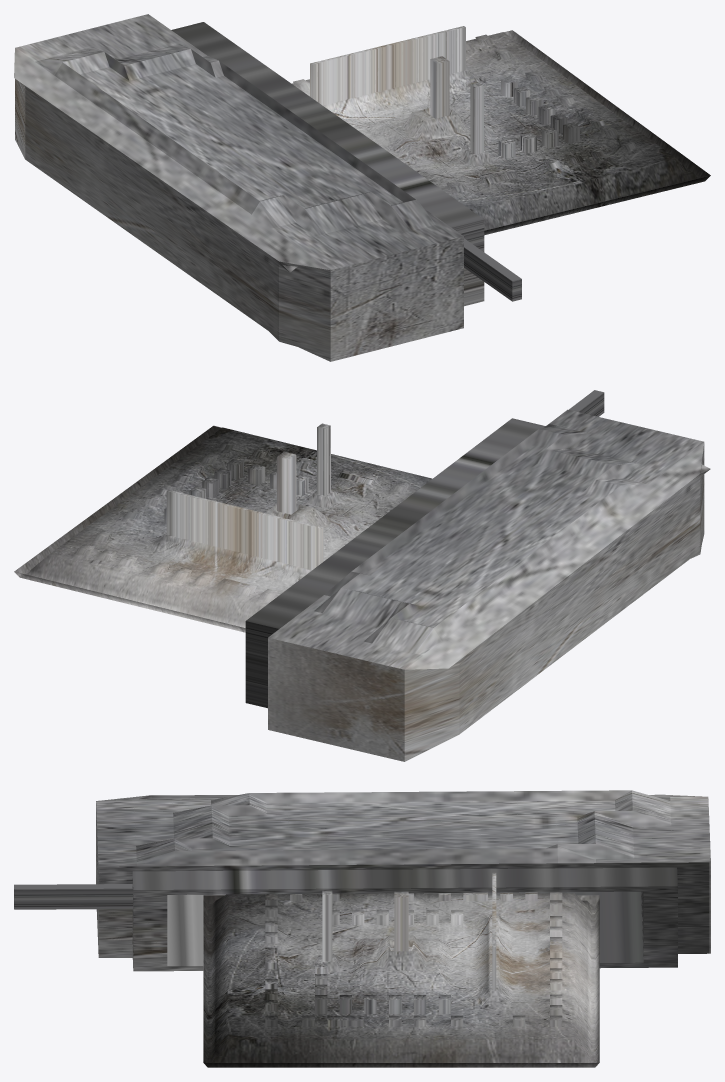
File: pieza27.fbx
3 renders of one model, top to bottom at view 1: azimuth 30°, elevation 25°; view 2: azimuth 150°, elevation 25°; view 3: azimuth 270°, elevation 25°, orthographic.
Visible parts, largest first — view 1: Cube.003; view 2: Cube.003; view 3: Cube.003.
Boxes of the visible parts, x1,y1,x2,y2 form: Cube.003: [14, 14, 710, 361]; Cube.003: [14, 390, 710, 761]; Cube.003: [14, 790, 710, 1067].
Bounding box in the file's own units: 370 × 97.11 × 481.
2 materials, 2 textured.
